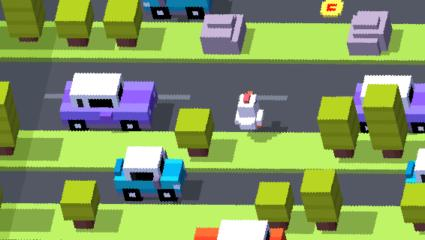hen: (233, 91, 263, 130)
obstacle: (59, 74, 157, 131), (355, 76, 425, 133), (114, 146, 185, 201), (361, 87, 412, 152), (302, 170, 340, 231), (319, 98, 362, 151), (254, 183, 294, 231), (194, 220, 287, 240), (202, 13, 247, 54), (59, 181, 95, 230), (350, 11, 392, 53), (63, 113, 155, 132), (2, 0, 42, 43), (176, 110, 213, 156), (103, 0, 137, 47), (54, 1, 92, 43), (138, 0, 215, 20), (0, 84, 19, 156), (403, 183, 425, 232), (406, 161, 425, 185), (333, 150, 354, 159), (382, 150, 403, 159)
